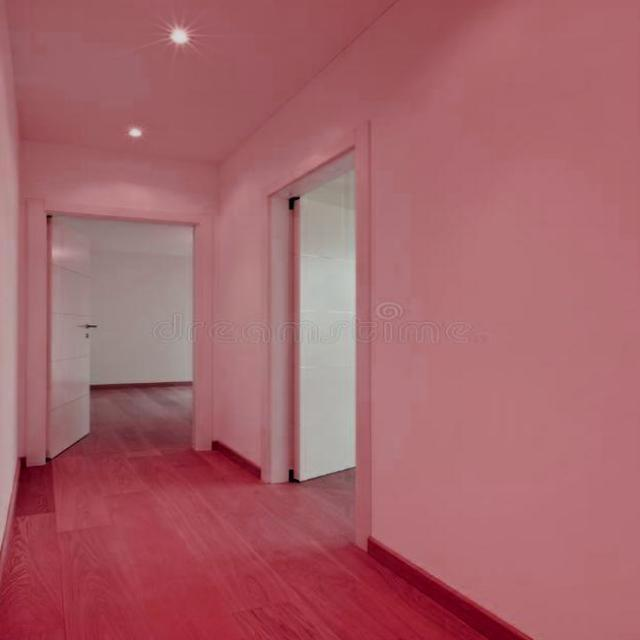door: (44, 219, 94, 460)
